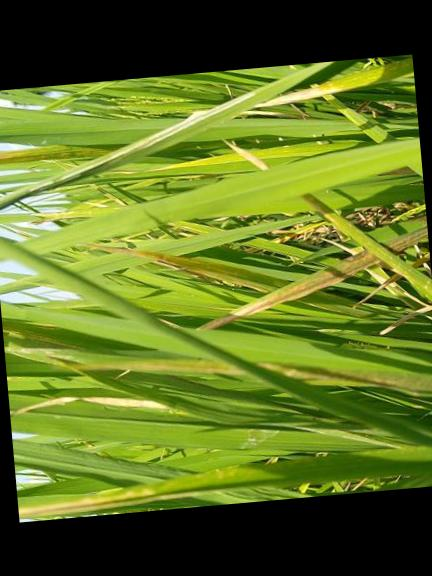Leaf Blight: (18, 488, 144, 518)
Leaf Streak: (198, 249, 378, 329), (252, 362, 425, 391), (89, 245, 244, 276), (144, 355, 244, 375), (303, 193, 347, 236), (223, 139, 269, 171), (0, 145, 58, 169), (262, 88, 335, 106), (387, 224, 428, 252)
